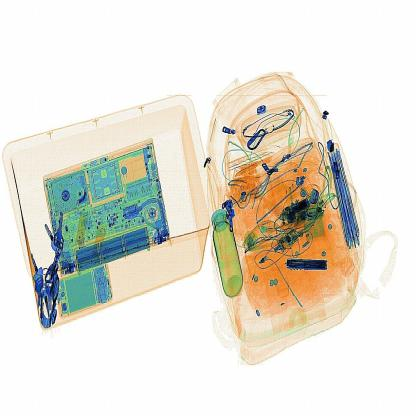scissors: (283, 255, 334, 274)
